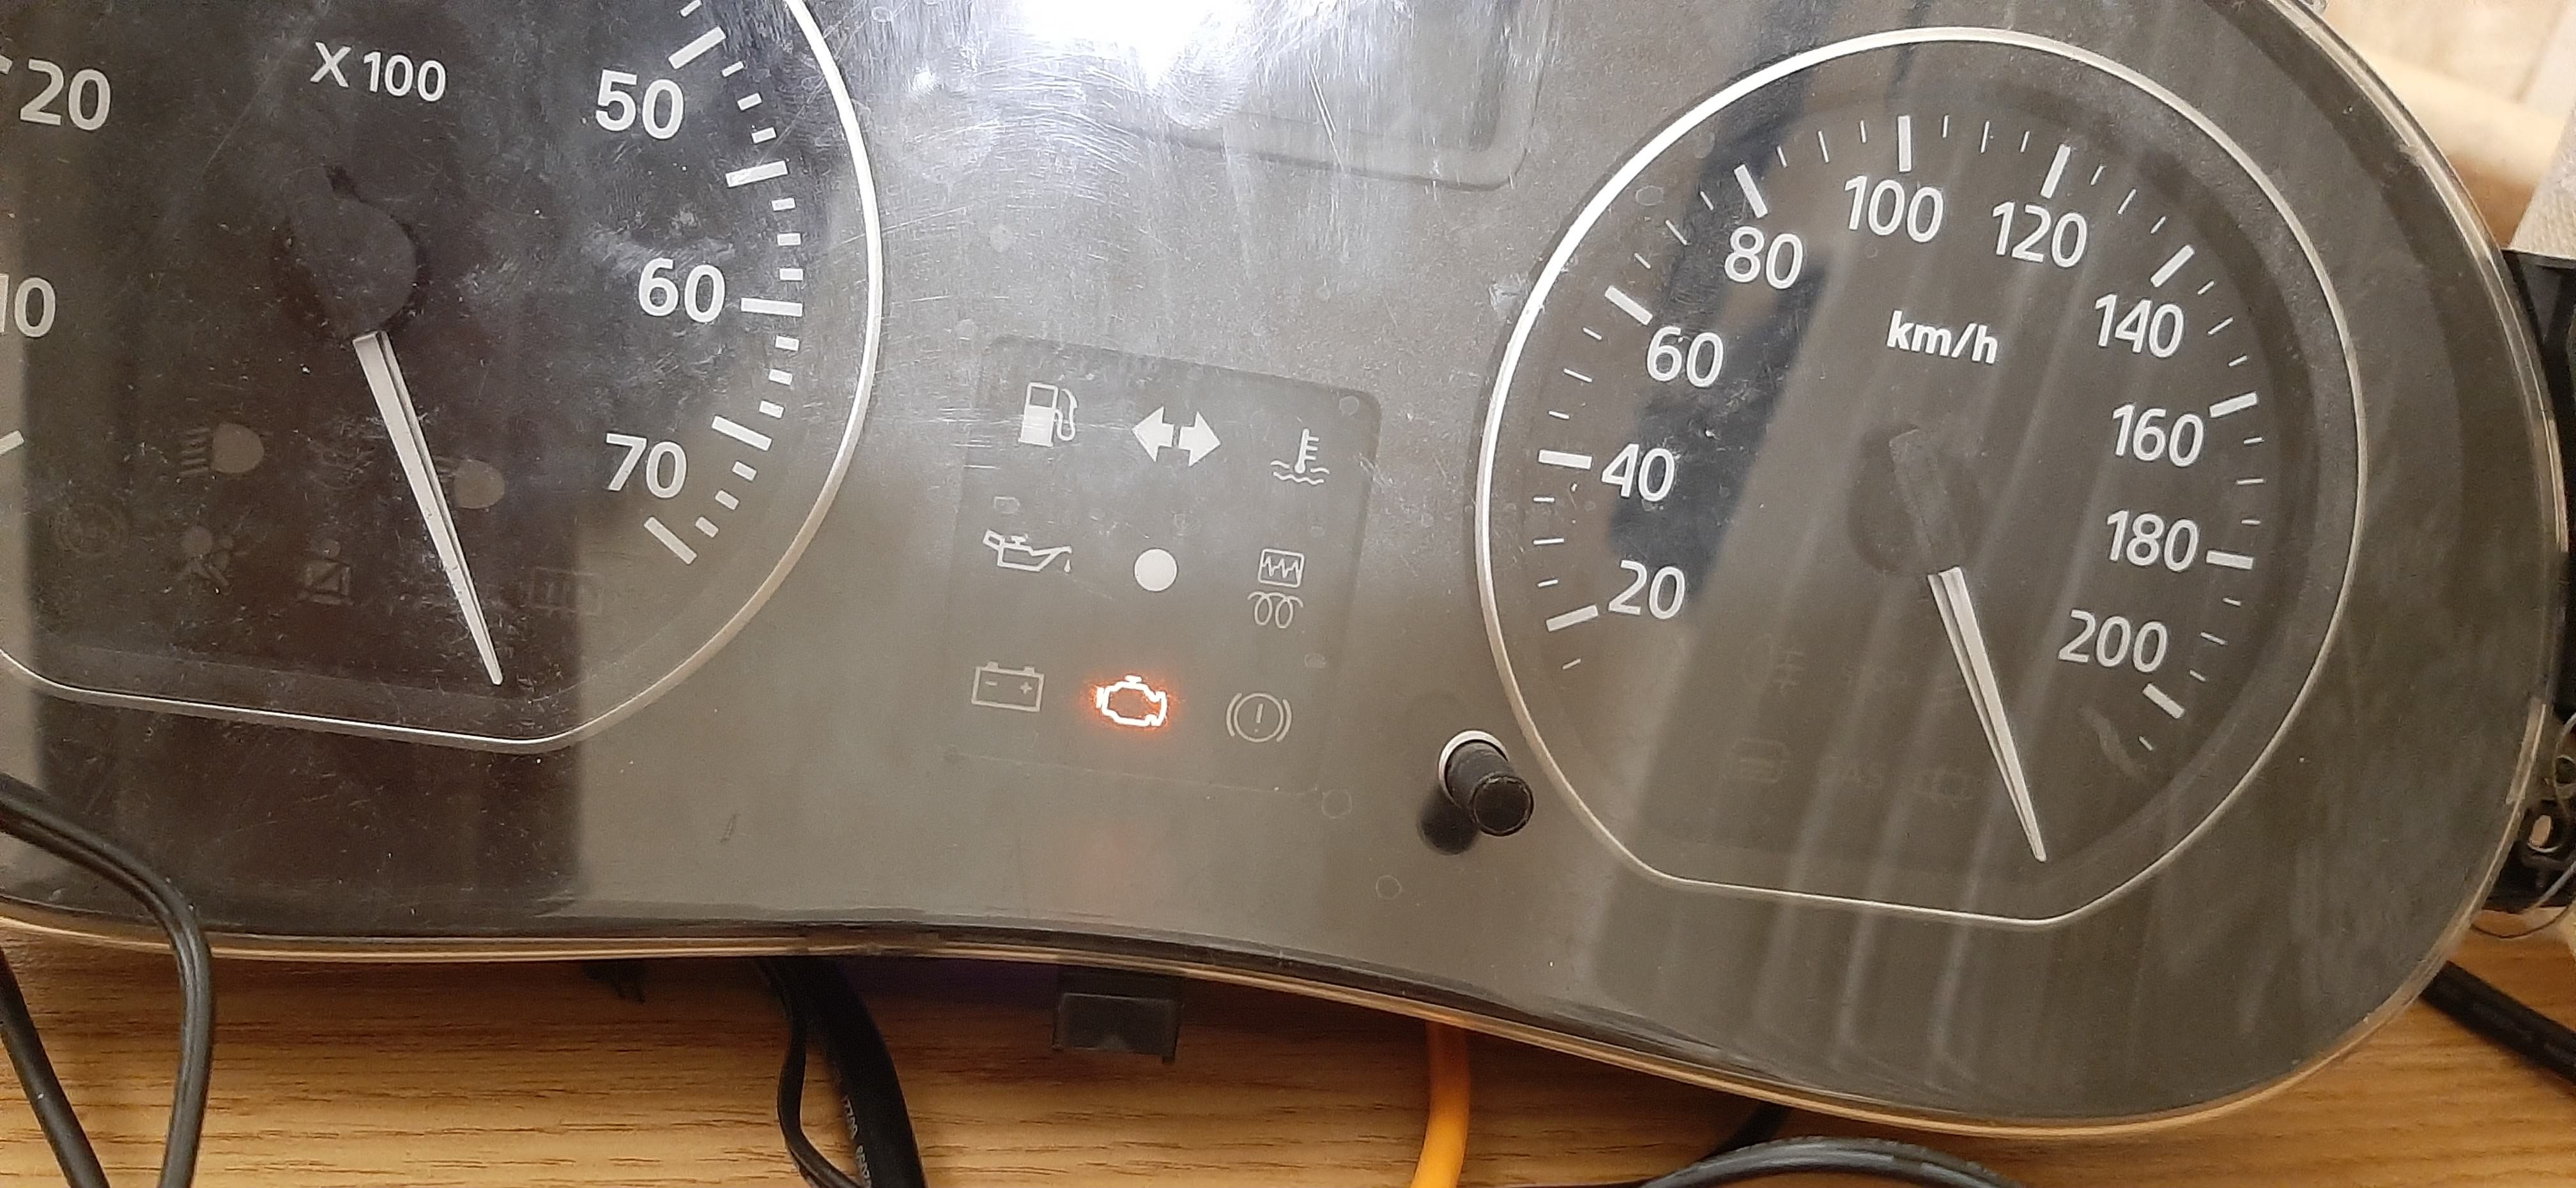engine15: (1092, 674, 1173, 731)
